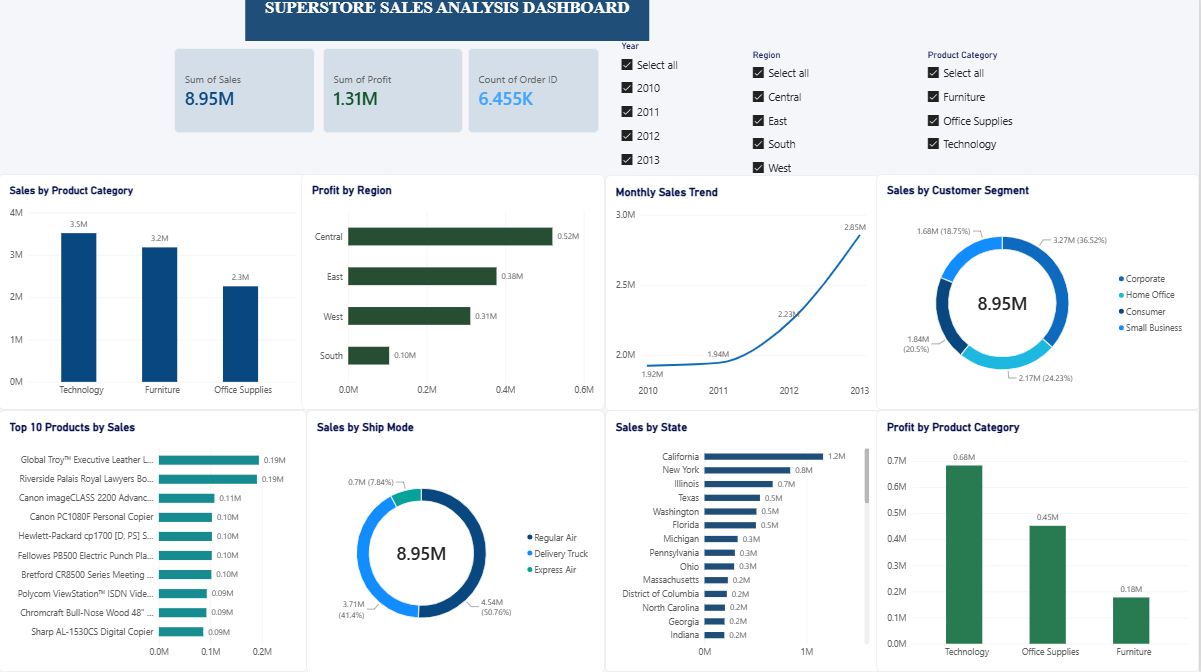

Layout of this report page (visuals, bound fields, positions):
{"tool":"powerbi","page":{"name":"Page 1","canvas":[1920,1080],"ordinal":0},"visuals":[{"type":"cardVisual","fields":{"Data":["Sum(Orders.Sales)"]},"box":[280,79,225,136],"z":0},{"type":"cardVisual","fields":{"Data":["Sum(Orders.Profit)"]},"box":[517,79,224,136],"z":1000},{"type":"cardVisual","fields":{"Data":["Count(Orders.Order ID)"]},"box":[750,79,210,136],"z":2000},{"type":"clusteredColumnChart","title":"Sales by Product Category","fields":{"Category":["Orders.Product Category"],"Y":["Sum(Orders.Sales)"]},"box":[0,282,492,377],"z":3000},{"type":"clusteredBarChart","title":"Profit by Region","fields":{"Category":["Orders.Region"],"Y":["Sum(Orders.Profit)"]},"box":[484,282,485,377],"z":4000},{"type":"lineChart","title":"Monthly Sales Trend","fields":{"Category":["Orders.Order Date.Variation.Date Hierarchy.Year","Orders.Order Date.Variation.Date Hierarchy.Quarter","Orders.Order Date.Variation.Date Hierarchy.Month"],"Y":["Sum(Orders.Sales)"]},"box":[969,283,440,377],"z":5000},{"type":"donutChart","title":"Sales by Customer Segment","fields":{"Category":["Orders.Customer Segment"],"Y":["Sum(Orders.Sales)"]},"box":[1404,282,516,377],"z":6000},{"type":"clusteredBarChart","title":"Top 10 Products by Sales","fields":{"Category":["Orders.Product Name"],"Y":["Sum(Orders.Sales)"]},"box":[0,659,492,418],"z":7000},{"type":"donutChart","title":"Sales by Ship Mode","fields":{"Category":["Orders.Ship Mode"],"Y":["Sum(Orders.Sales)"]},"box":[492,659,477,421],"z":8000},{"type":"barChart","title":"Sales by State","fields":{"Category":["Orders.State or Province"],"Y":["Sum(Orders.Sales)"]},"box":[969,659,440,418],"z":9000},{"type":"clusteredColumnChart","title":"Profit by Product Category","fields":{"Category":["Orders.Product Category"],"Y":["Sum(Orders.Profit)"]},"box":[1404,659,516,418],"z":10000},{"type":"slicer","fields":{"Values":["Orders.Order Date.Variation.Date Hierarchy.Year"]},"box":[987.1,68.6,184,218],"z":11000},{"type":"slicer","fields":{"Values":["Orders.Region"]},"box":[1198.6,81.4,184,213],"z":12000},{"type":"slicer","fields":{"Values":["Orders.Product Category"]},"box":[1477.1,81.4,184,192],"z":13000},{"type":"textbox","box":[1736,881,184,196],"z":14000},{"type":"textbox","box":[393,0,646,69],"z":15000}]}

Visuals, with their boxes in screenshot pixels (x1, y1, x2, y2), scaled from the page's 1920x1080 canvas onto the 1201x672 screenshot:
cardVisual - Sum(Orders.Sales): [175,49,316,134]
cardVisual - Sum(Orders.Profit): [323,49,464,134]
cardVisual - Count(Orders.Order ID): [469,49,600,134]
"Sales by Product Category" clusteredColumnChart: [0,175,308,410]
"Profit by Region" clusteredBarChart: [303,175,606,410]
"Monthly Sales Trend" lineChart: [606,176,881,411]
"Sales by Customer Segment" donutChart: [878,175,1200,410]
"Top 10 Products by Sales" clusteredBarChart: [0,410,308,670]
"Sales by Ship Mode" donutChart: [308,410,606,671]
"Sales by State" barChart: [606,410,881,670]
"Profit by Product Category" clusteredColumnChart: [878,410,1200,670]
slicer - Orders.Order Date.Variation.Date Hierarchy.Year: [617,43,733,178]
slicer - Orders.Region: [750,51,865,183]
slicer - Orders.Product Category: [924,51,1039,170]
textbox: [1086,548,1200,670]
textbox: [246,0,650,43]
